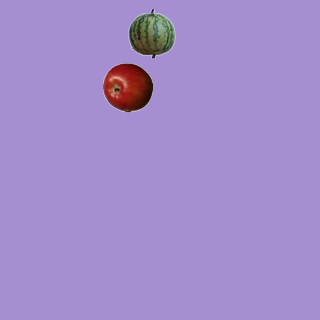Apple Braeburn: (102, 62, 152, 112)
Watermelon: (126, 8, 176, 58)
